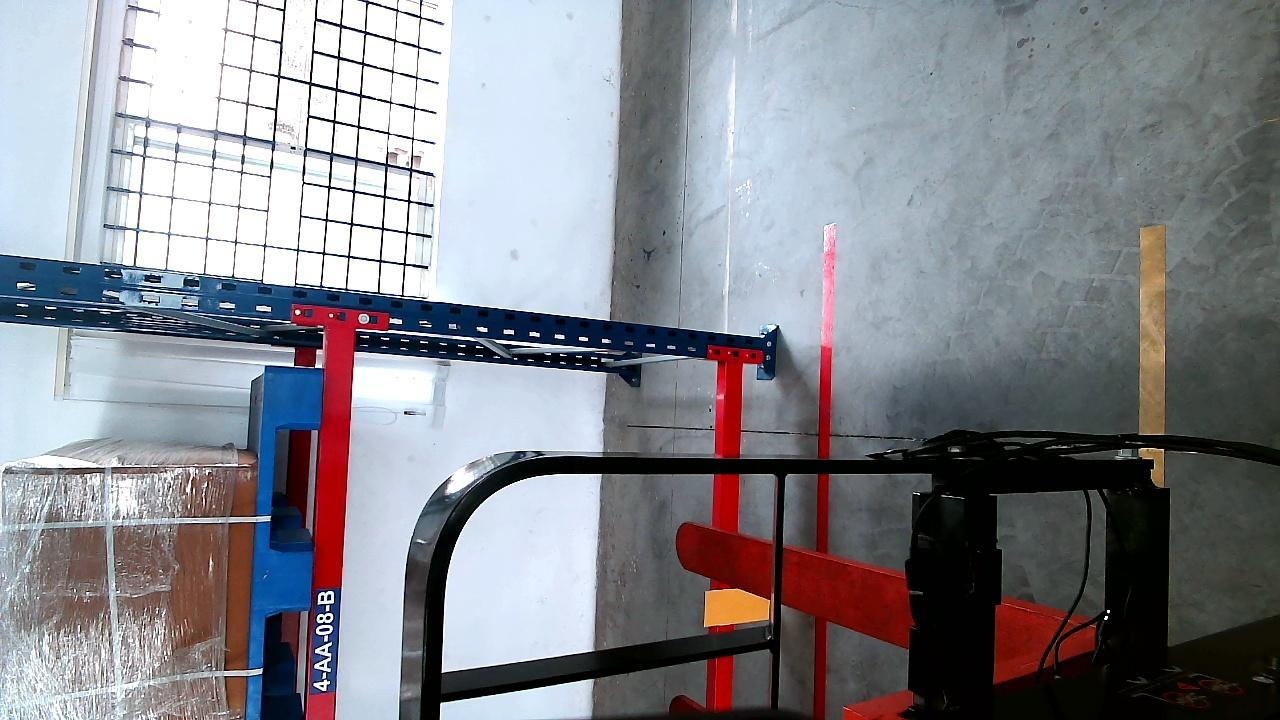red_line: (817, 225, 837, 476)
yellow_line: (1141, 219, 1165, 450)
